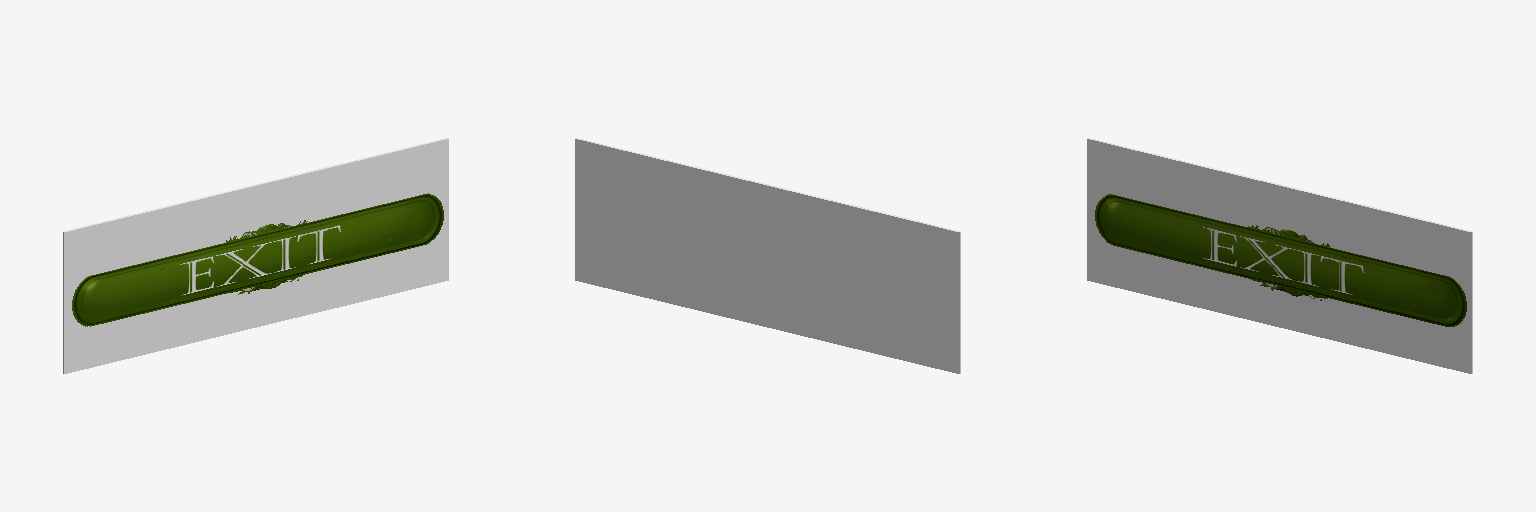
3 renders of one model, left to right at view 1: azimuth 30°, elevation 25°; view 2: azimuth 150°, elevation 25°; view 3: azimuth 330°, elevation 25°, orthographic.
Visible parts, largest first — view 1: play_button:pCube1 play_button:polySurface1; view 2: play_button:pCube1 play_button:polySurface1; view 3: play_button:pCube1 play_button:polySurface1.
Part boxes in pixels (left/top/right/bottom): play_button:pCube1 play_button:polySurface1: left=63, top=138, right=448, bottom=373; play_button:pCube1 play_button:polySurface1: left=575, top=138, right=960, bottom=373; play_button:pCube1 play_button:polySurface1: left=1087, top=138, right=1472, bottom=373.
Bounding box in the file's own units: 1.53 × 0.5405 × 0.0099.
Materials: 3 (1 with a texture image).